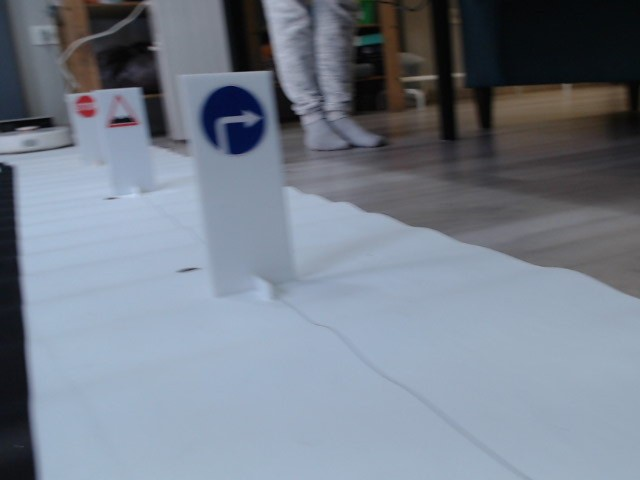Nerov: (104, 94, 141, 128)
Right: (199, 84, 266, 158)
